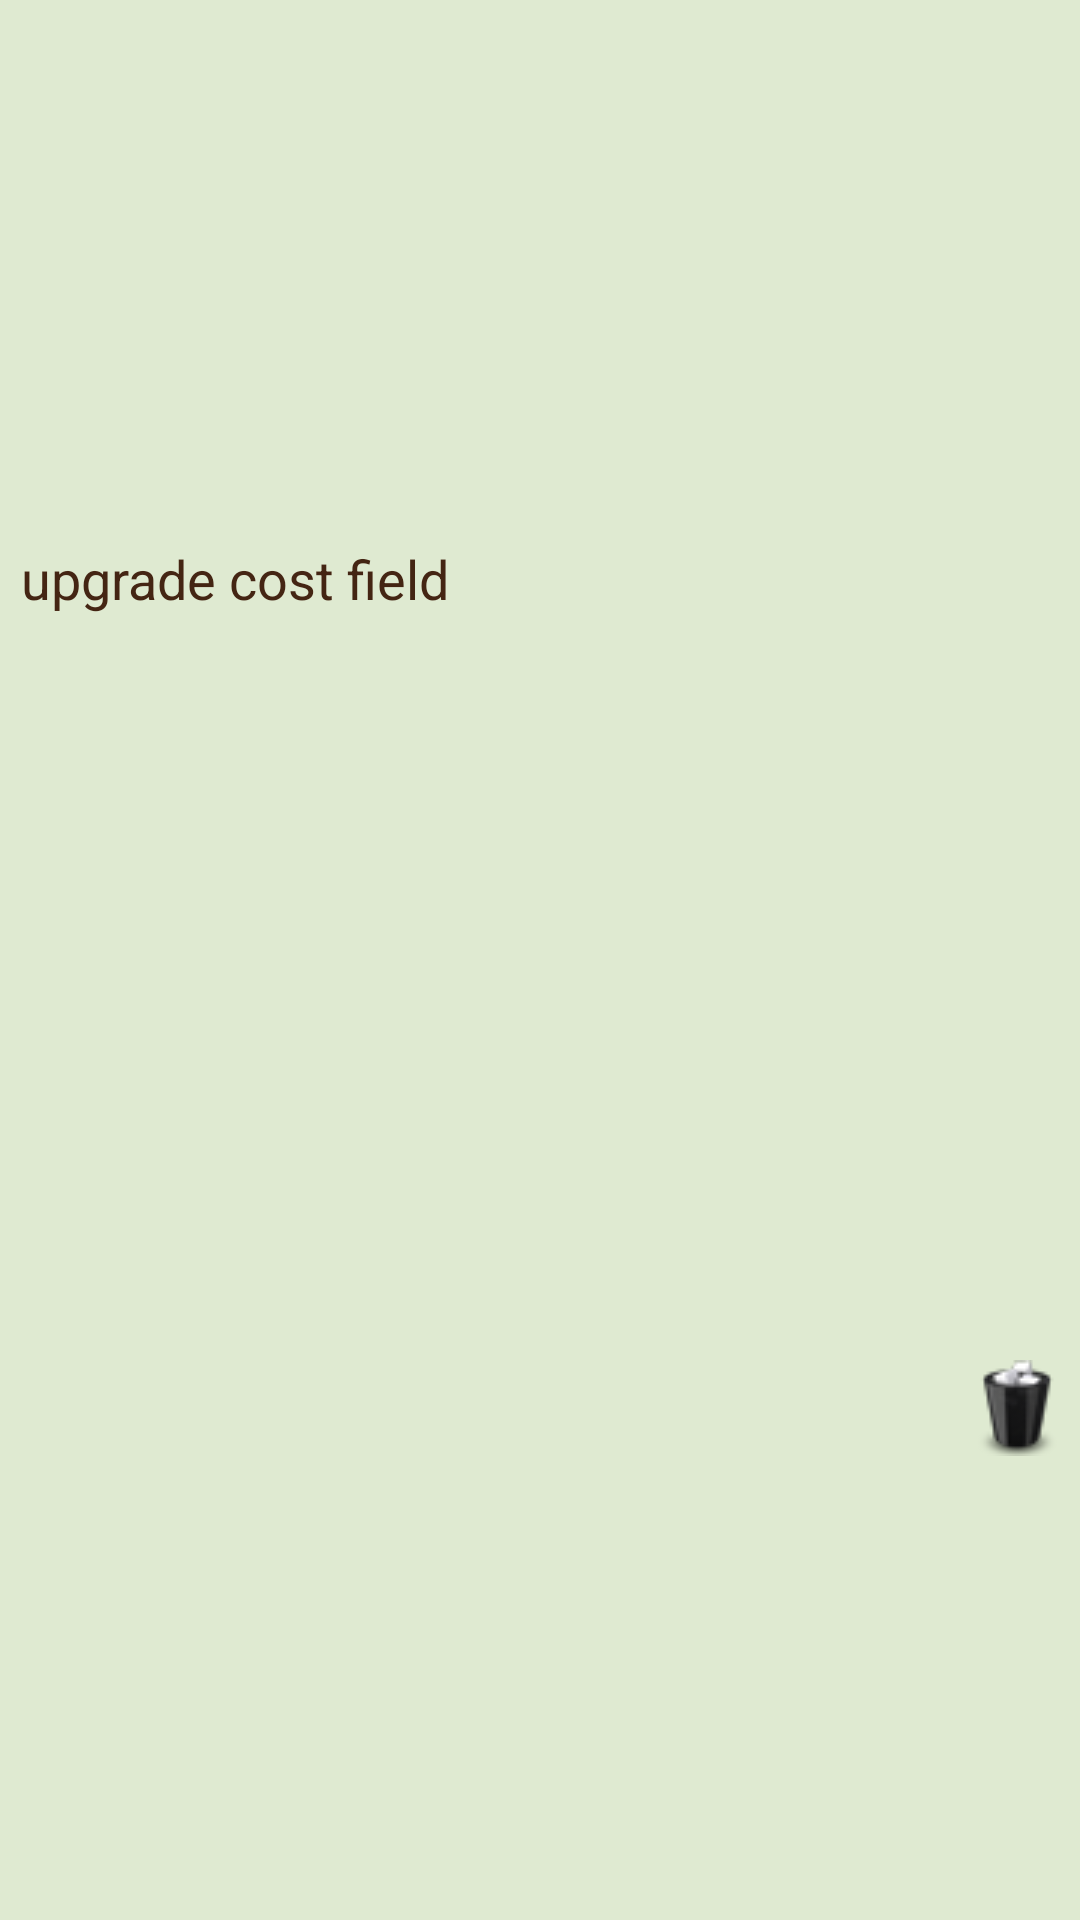

Screen size 1080px×1920px. Icon name, then its center in pixels as (x,y):
trashcan: (1017,1408)
